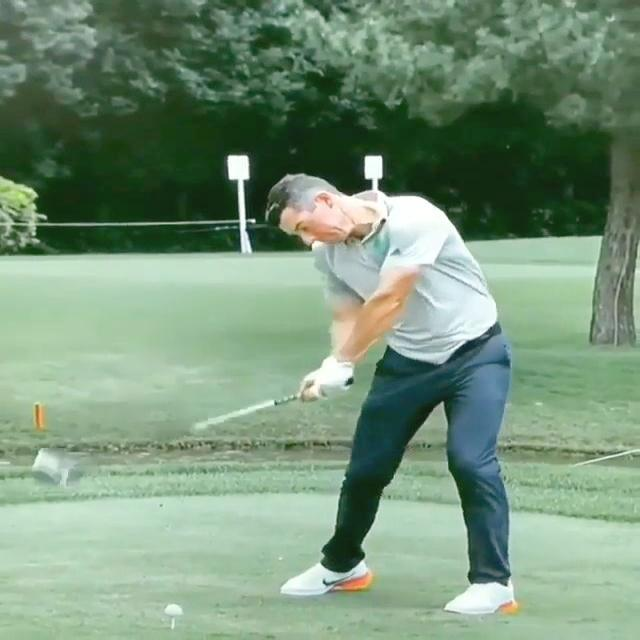ClubHandle: (32, 378, 358, 487)
ClubHead: (32, 452, 74, 488)
GolfBall: (165, 604, 182, 616)
